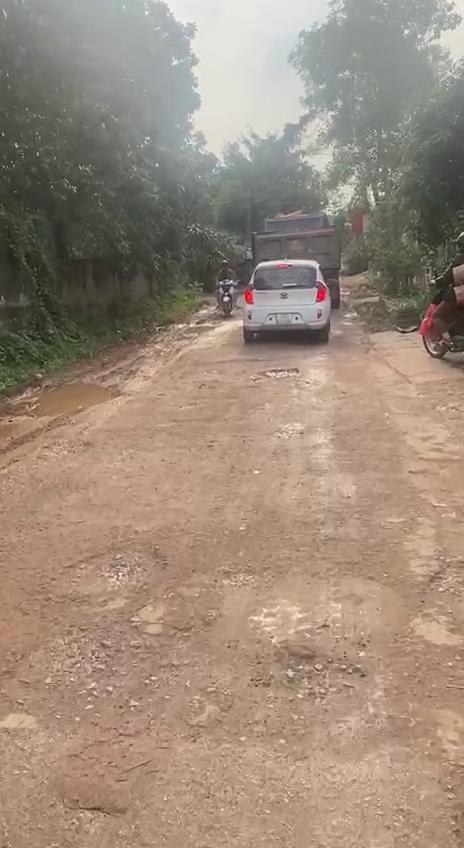pothole: (416, 546, 464, 848), (5, 626, 140, 723), (244, 650, 377, 741), (54, 538, 176, 602), (23, 379, 125, 417), (256, 366, 302, 380)
